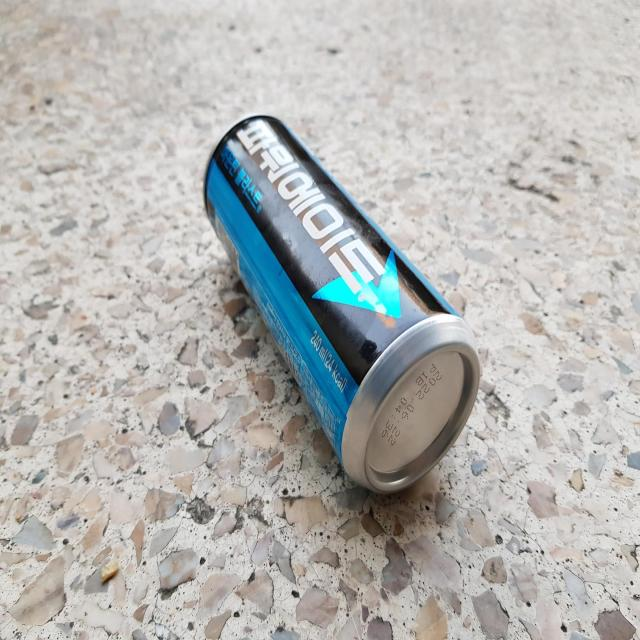can: (204, 115, 481, 493)
